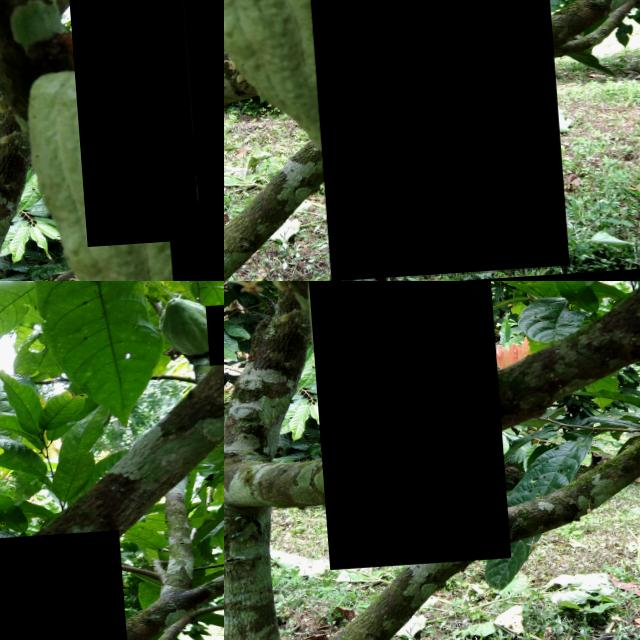Fitoftora: (65, 0, 195, 249), (147, 0, 224, 281)
Sana: (298, 0, 559, 281), (303, 281, 503, 571), (76, 389, 114, 435), (204, 312, 224, 373), (128, 416, 147, 443)
